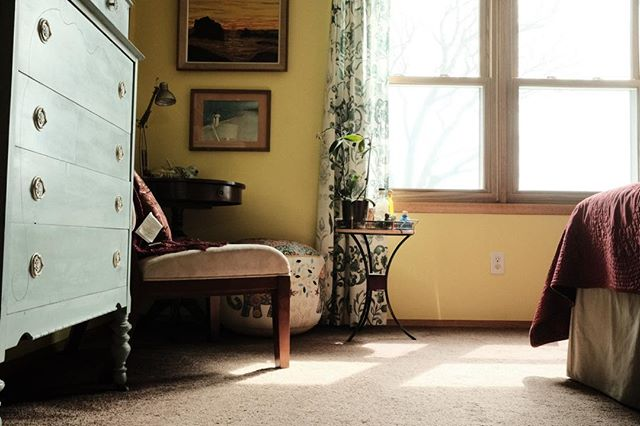chair: (127, 180, 303, 367)
window: (383, 1, 638, 210)
